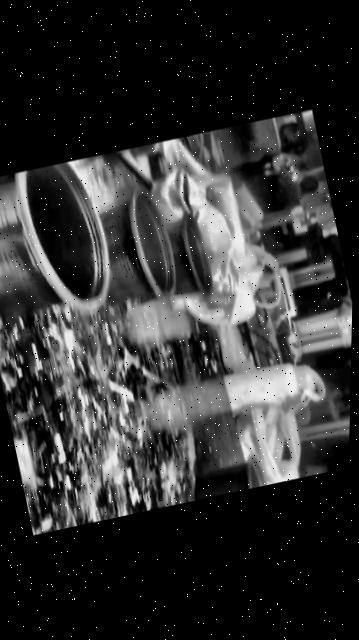pot: (0, 158, 121, 342), (99, 193, 174, 301), (167, 218, 211, 295), (195, 458, 265, 501)
